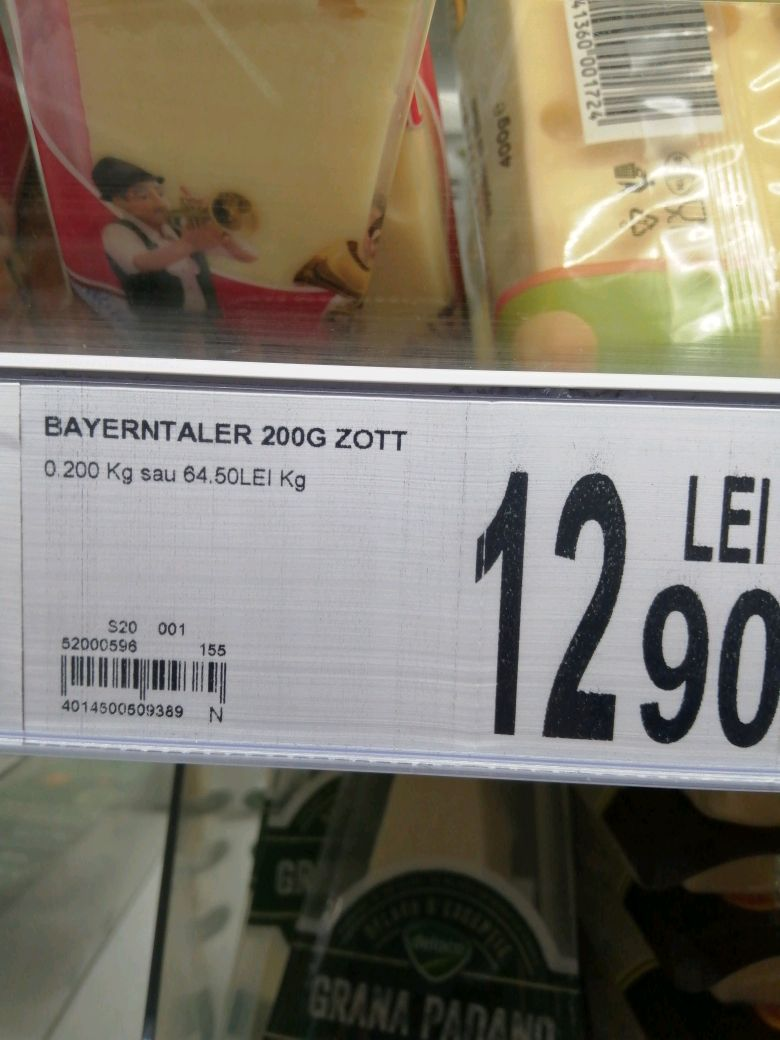price_bani: (638, 576, 780, 751)
price_lei: (456, 452, 627, 749)
price_tag: (1, 382, 780, 792)
product_id: (53, 693, 187, 724)
product_name: (26, 410, 436, 456)
